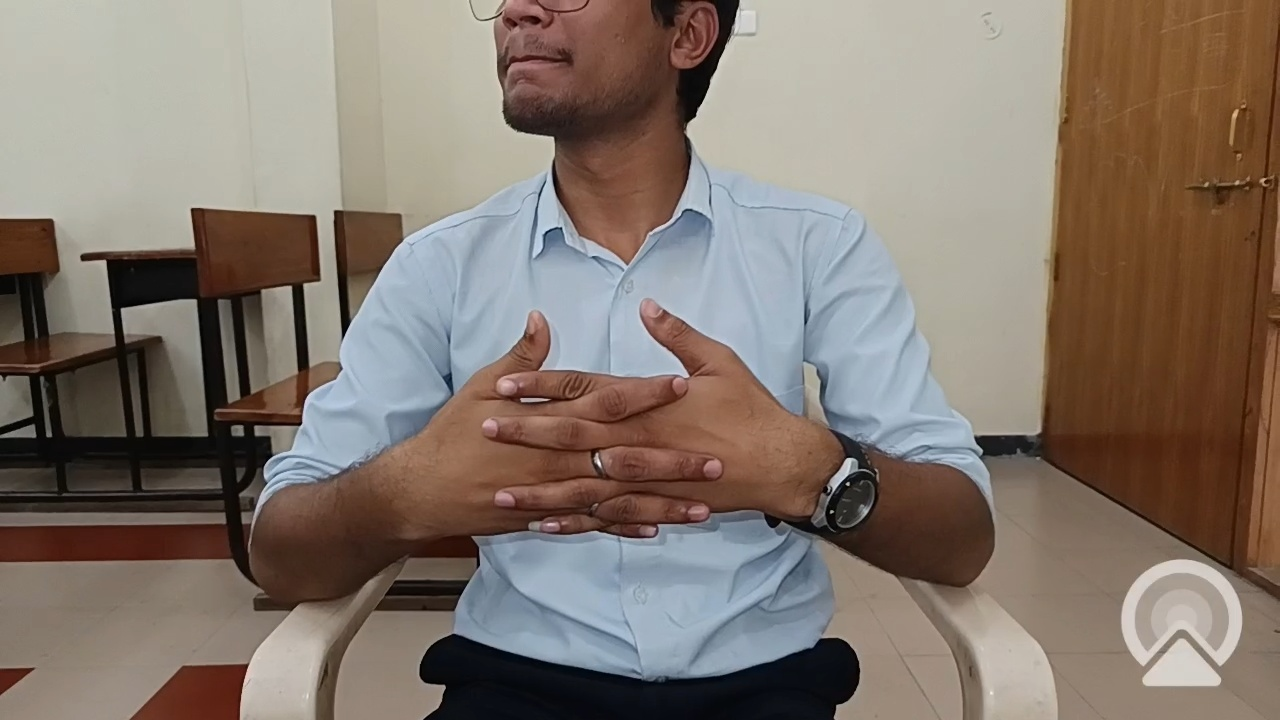W: (385, 280, 811, 593)
